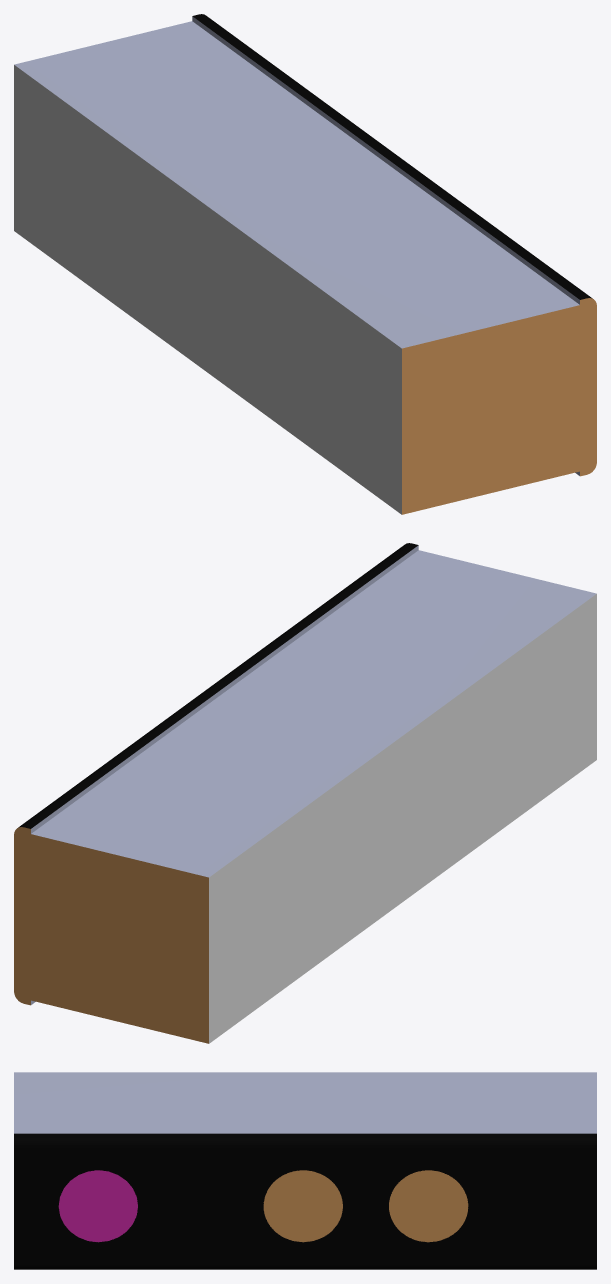
File: asus_camera.dae
3 views of the same model, one above another, from view 1: azimuth 30°, elevation 25°; view 2: azimuth 150°, elevation 25°; view 3: azimuth 270°, elevation 25° (orthographic). The views are drawn at different scales.
Visible parts, largest first — view 1: ShapeIndexedFaceSet_002; view 2: ShapeIndexedFaceSet_002; view 3: ShapeIndexedFaceSet_002.
Boxes of the visible parts, bbox=[...] form: ShapeIndexedFaceSet_002: bbox=[14, 14, 596, 514]; ShapeIndexedFaceSet_002: bbox=[14, 543, 596, 1043]; ShapeIndexedFaceSet_002: bbox=[14, 1072, 596, 1269].
Size of the model in its own units: 0.0405 by 0.1395 by 0.035.
